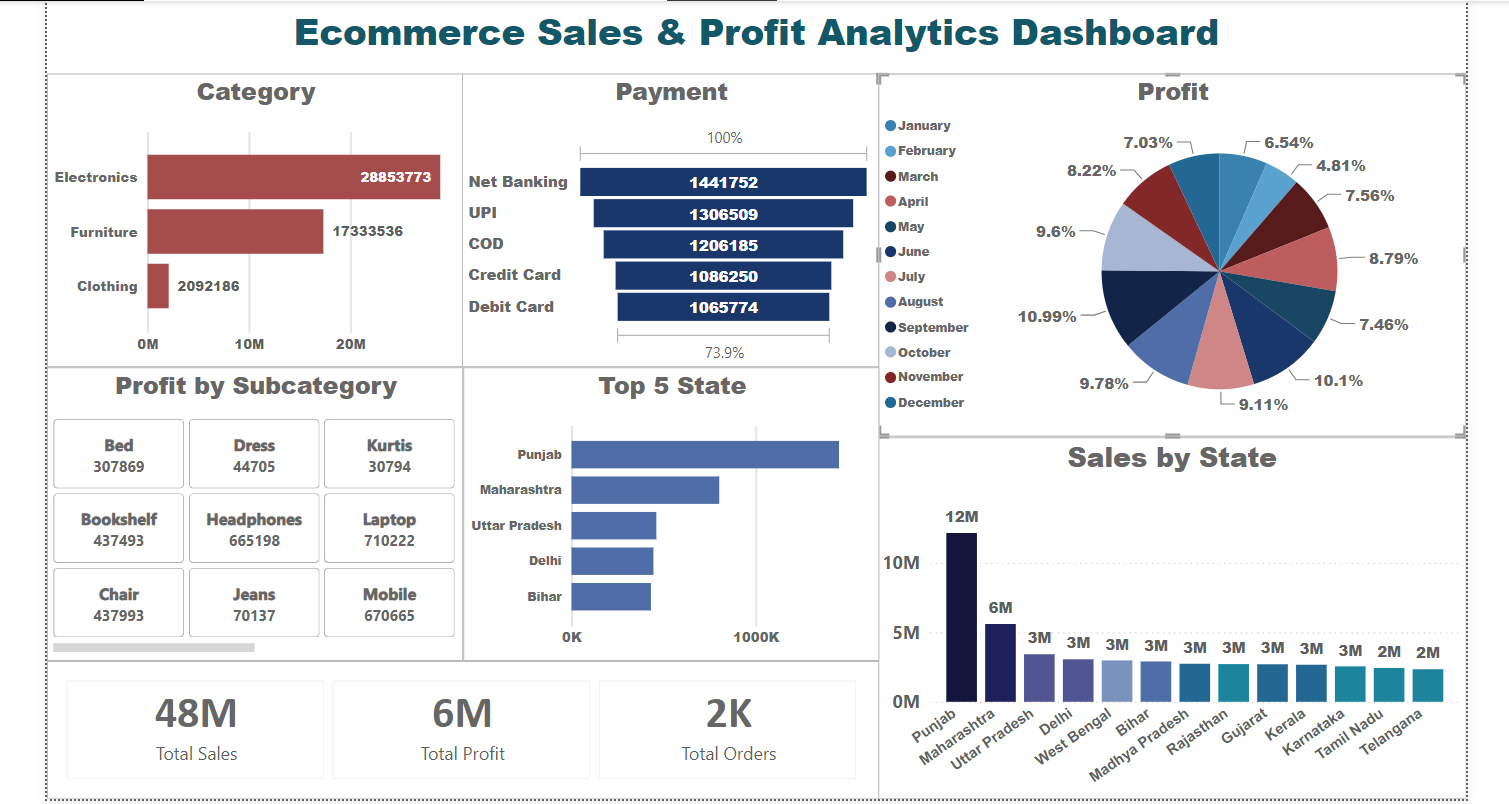

This screenshot's page, from the dashboard's own definition file:
{"tool":"powerbi","page":{"name":"Page 1","canvas":[1280,720],"ordinal":0},"visuals":[{"type":"barChart","title":"Category","fields":{"Category":["ecommerce_db ecommerce.Category"],"Y":["Sum(ecommerce_db ecommerce.Amount)"]},"box":[0,65.1,375,265],"z":0},{"type":"columnChart","title":"Sales by State","fields":{"Category":["ecommerce_db ecommerce.State"],"Y":["ecommerce_db ecommerce.Total Sales"]},"box":[747.7,393,532.6,326.7],"z":1000},{"type":"funnel","title":"Payment","fields":{"Y":["Sum(ecommerce_db ecommerce.Profit)"],"Category":["ecommerce_db ecommerce.PaymentMode"]},"box":[374.4,65.1,376.2,265],"z":2000},{"type":"pieChart","title":"Profit ","fields":{"Category":["ecommerce_db ecommerce.Month Name"],"Y":["Sum(ecommerce_db ecommerce.Profit)"]},"box":[750,65.1,530,328],"z":3000},{"type":"cardVisual","fields":{"Data":["ecommerce_db ecommerce.Total Sales","ecommerce_db ecommerce.Total Profit","ecommerce_db ecommerce.Total Orders"]},"box":[0,595.4,750,125],"z":4000},{"type":"clusteredBarChart","title":"Top 5 State","fields":{"Category":["ecommerce_db ecommerce.State"],"Y":["ecommerce_db ecommerce.Total Profit"]},"box":[375.6,330.2,375.3,265],"z":5000},{"type":"advancedSlicerVisual","title":"Profit by Subcategory","fields":{"Values":["ecommerce_db ecommerce.Subcategory"],"Label":["ecommerce_db ecommerce.Total Profit"]},"box":[0,330.2,375,265],"z":6000},{"type":"textbox","box":[0,0,1279.1,64.8],"z":7000}]}

Visuals, with their boxes on the page's 1280x720 design canvas (x1, y1, x2, y2). These are canvas units, not pixel positions in the 1509x804 screenshot, which may show the page scaled, cropped or inside an application window:
"Category" barChart: (left=0, top=65, right=375, bottom=330)
"Sales by State" columnChart: (left=748, top=393, right=1280, bottom=720)
"Payment" funnel: (left=374, top=65, right=751, bottom=330)
"Profit " pieChart: (left=750, top=65, right=1280, bottom=393)
cardVisual - ecommerce_db ecommerce.Total Sales x ecommerce_db ecommerce.Total Profit: (left=0, top=595, right=750, bottom=720)
"Top 5 State" clusteredBarChart: (left=376, top=330, right=751, bottom=595)
"Profit by Subcategory" advancedSlicerVisual: (left=0, top=330, right=375, bottom=595)
textbox: (left=0, top=0, right=1279, bottom=65)
